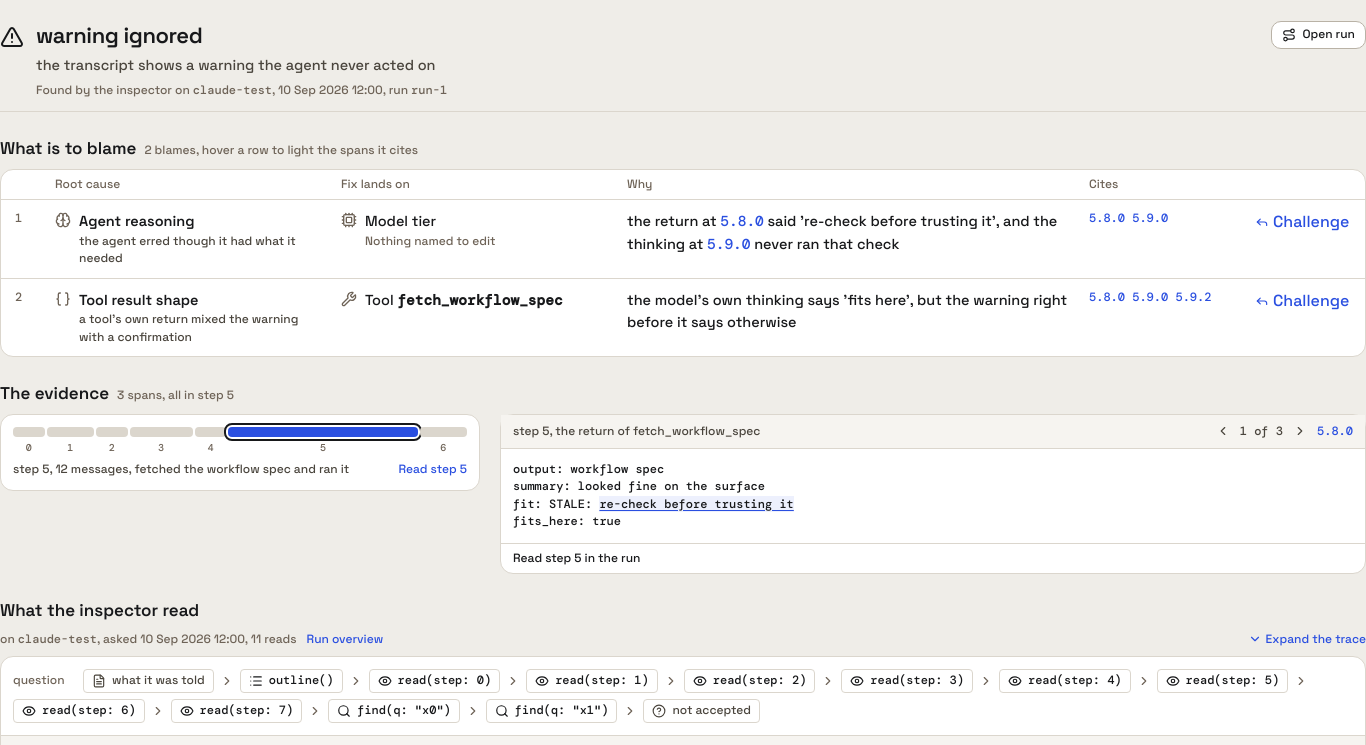
Test: FindingPage › appends the follow-up once, named by the model that actually answered it
Check: the heading "warning ignored" is shown, box [36,21,202,49]
Click the button "Expand the trace" at (1307, 639), box [1248,631,1365,648]
(page scrolled)
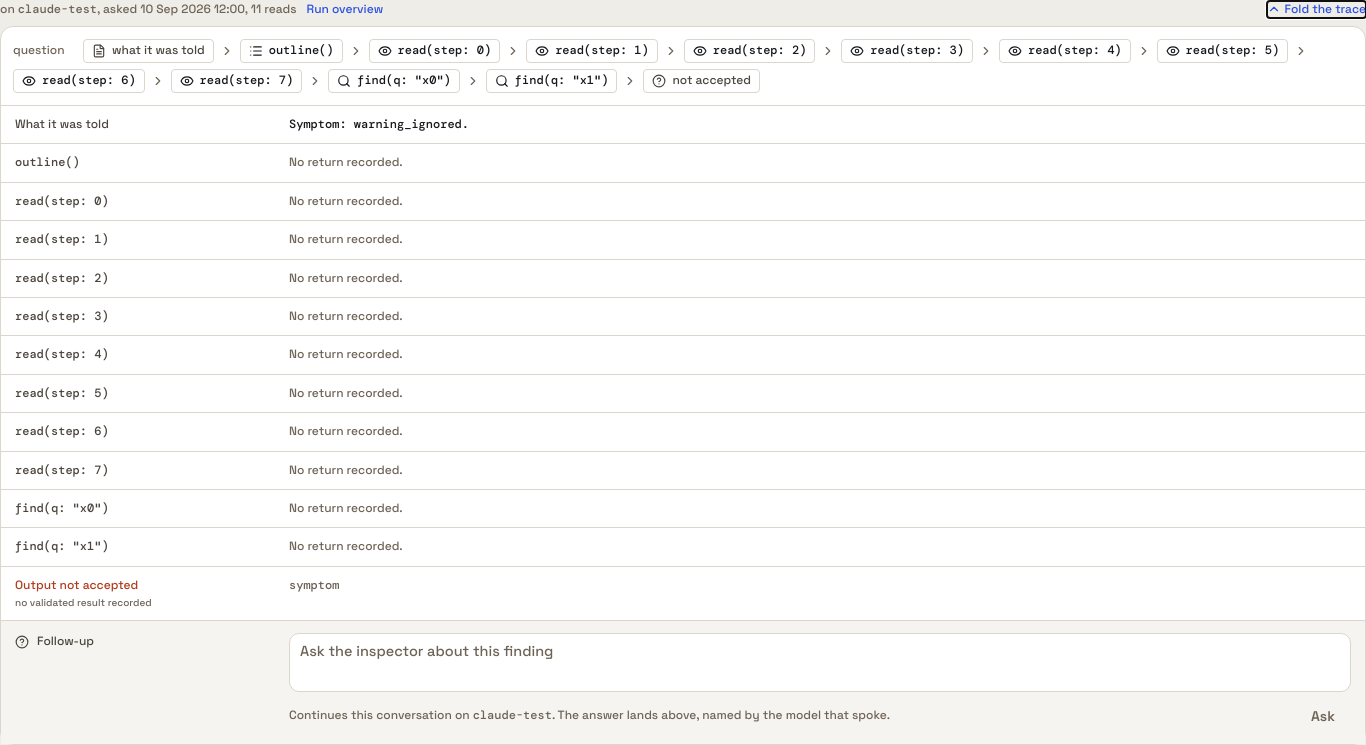
Type "why not the instructions?" into the text box labelled "Ask the inspector about this finding" at (820, 663), box [289,633,1351,692]
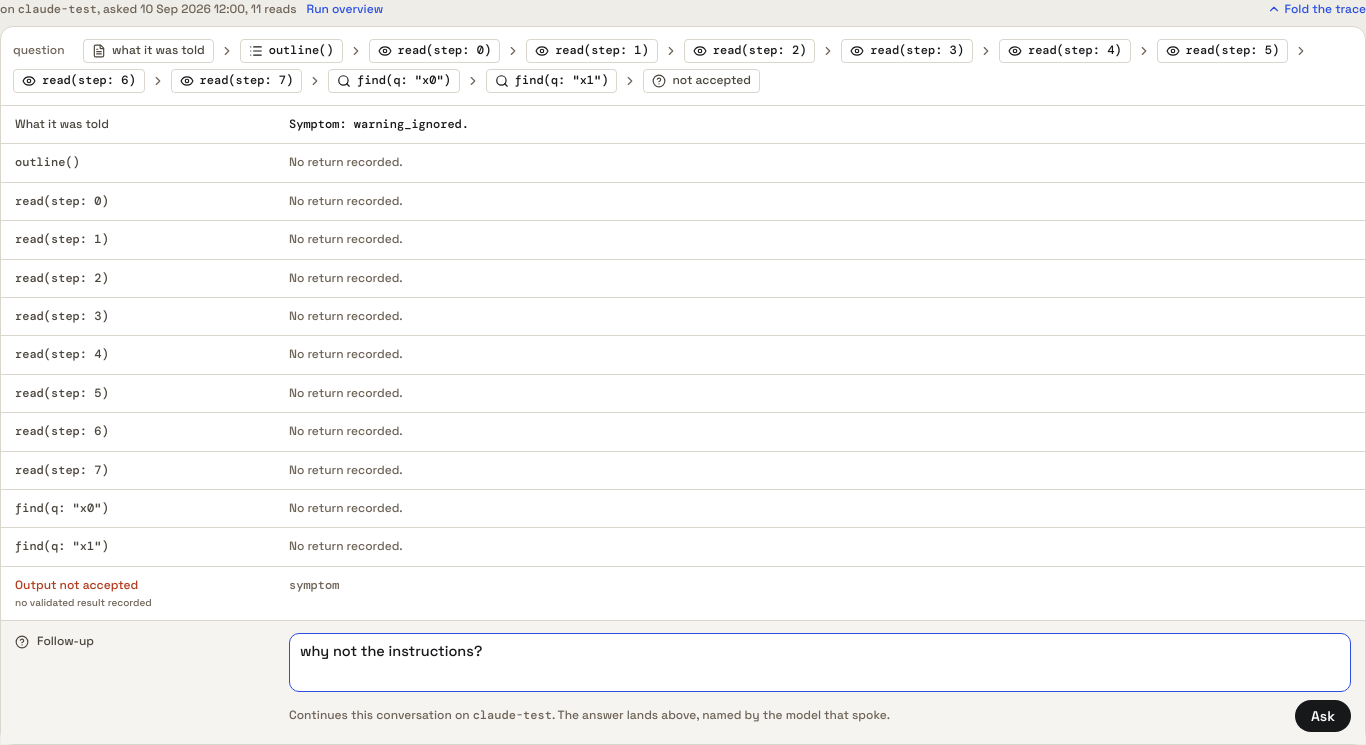
Click the button "Ask" at (1323, 716), box [1295,700,1351,732]
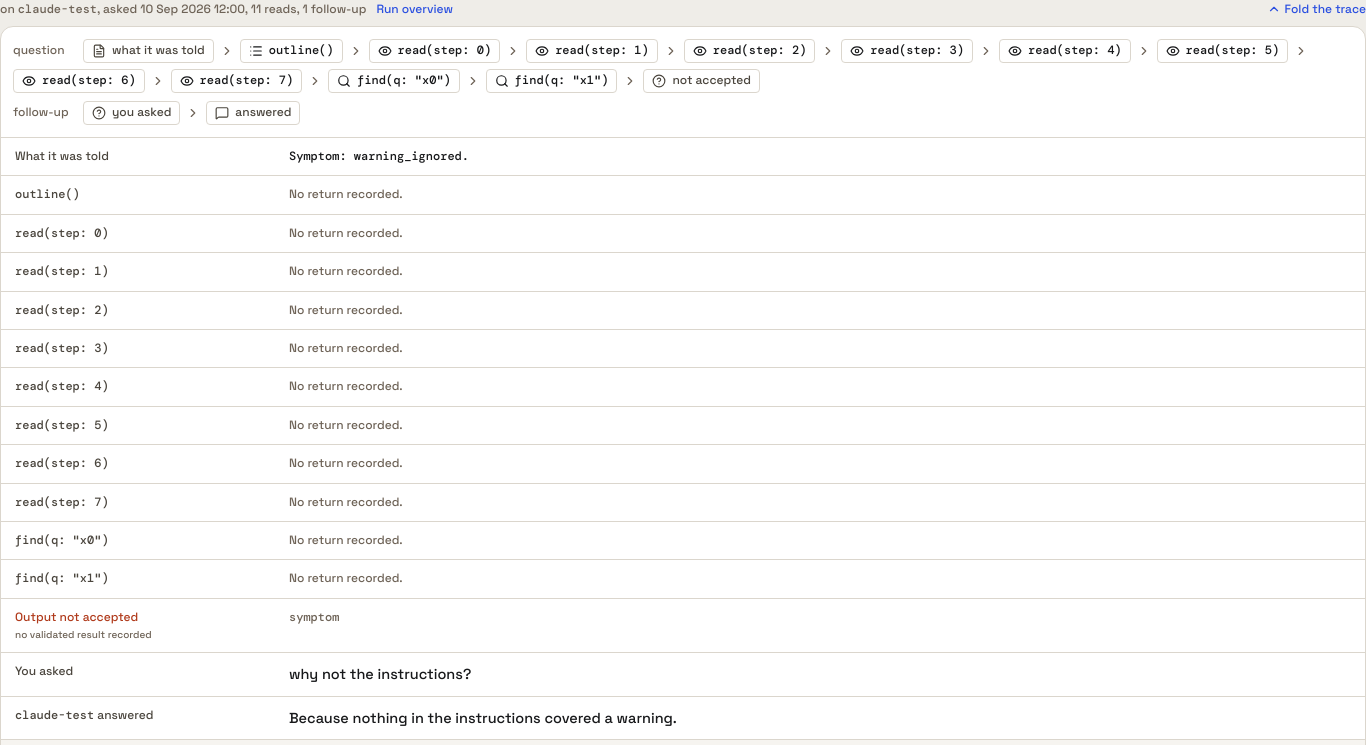
Check: the text "why not the instructions?" is shown once, box [289,665,471,683]
Check: the text "Because nothing in the instructions covered a warning." is shown once, box [289,708,677,726]
